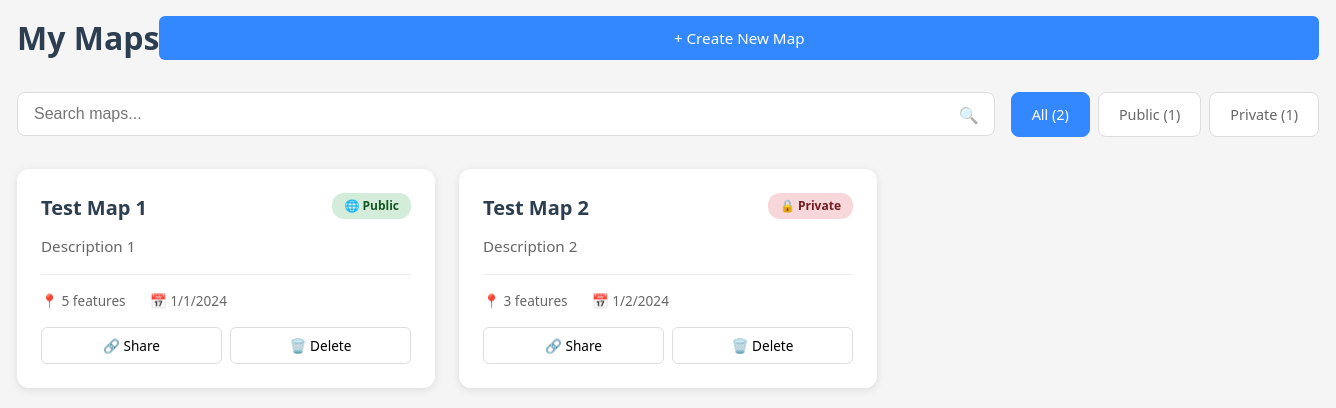
Scenario: MapGallery Component › filters maps by search query
The width and height of the screenshot is (1336, 408).
Type "Test Map 1" into the field with placeholder "Search maps...". click: (506, 114)
box: [17,92,995,136]
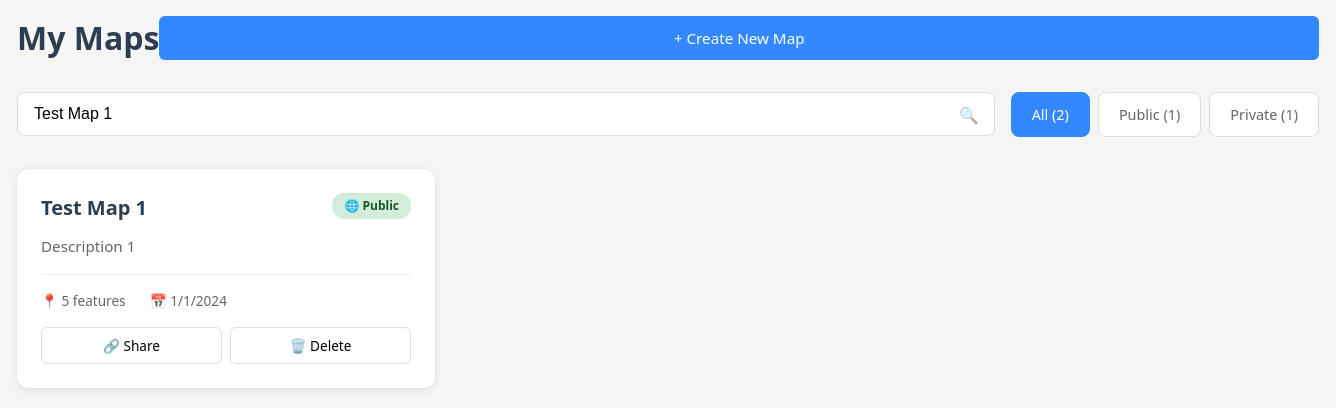
expect the heading "Test Map 1" is shown: met, box [41,194,147,221]
expect the heading "Test Map 2" is gone: met
